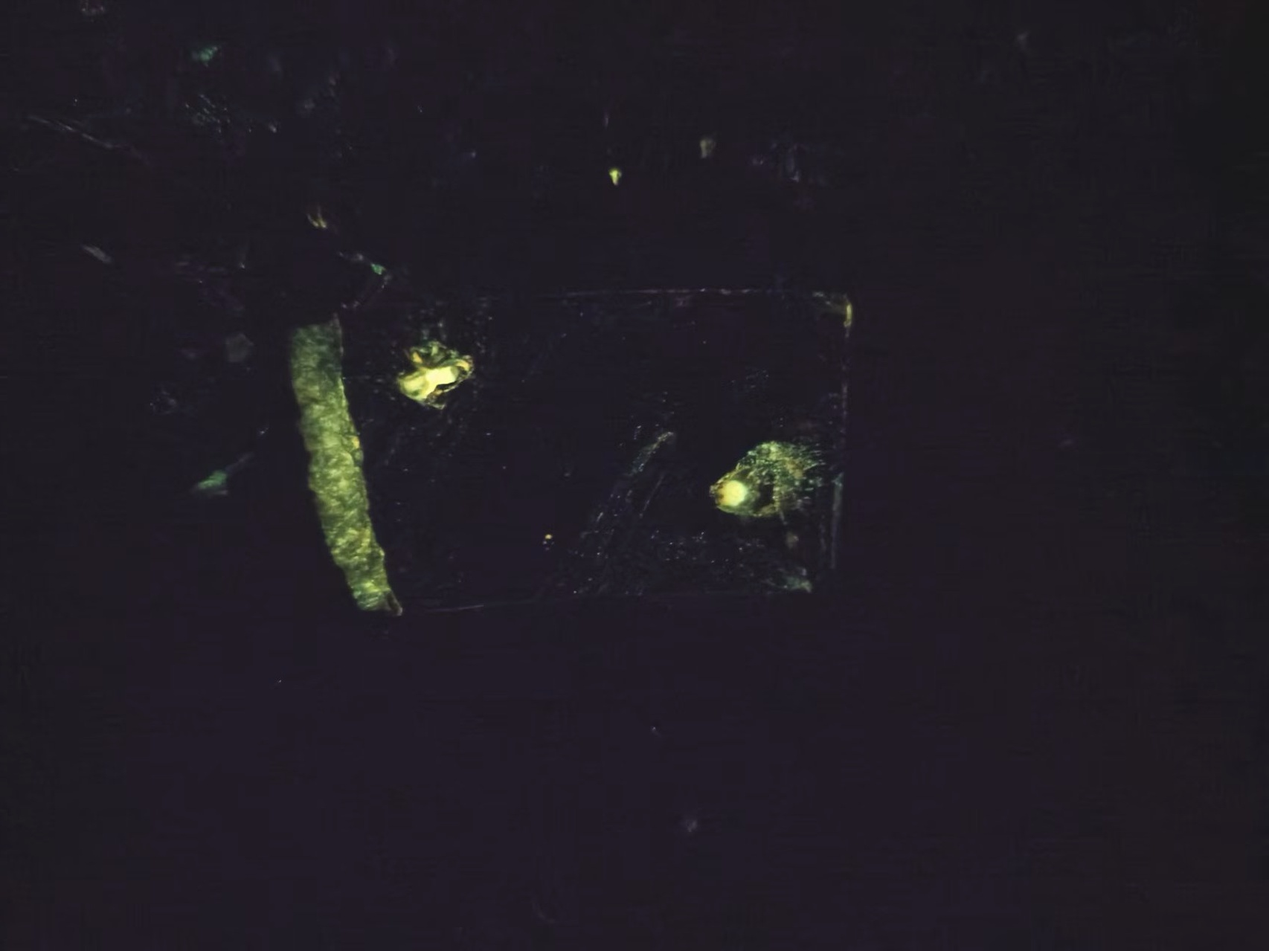Crater: (638, 418, 869, 541), (383, 314, 518, 425)
